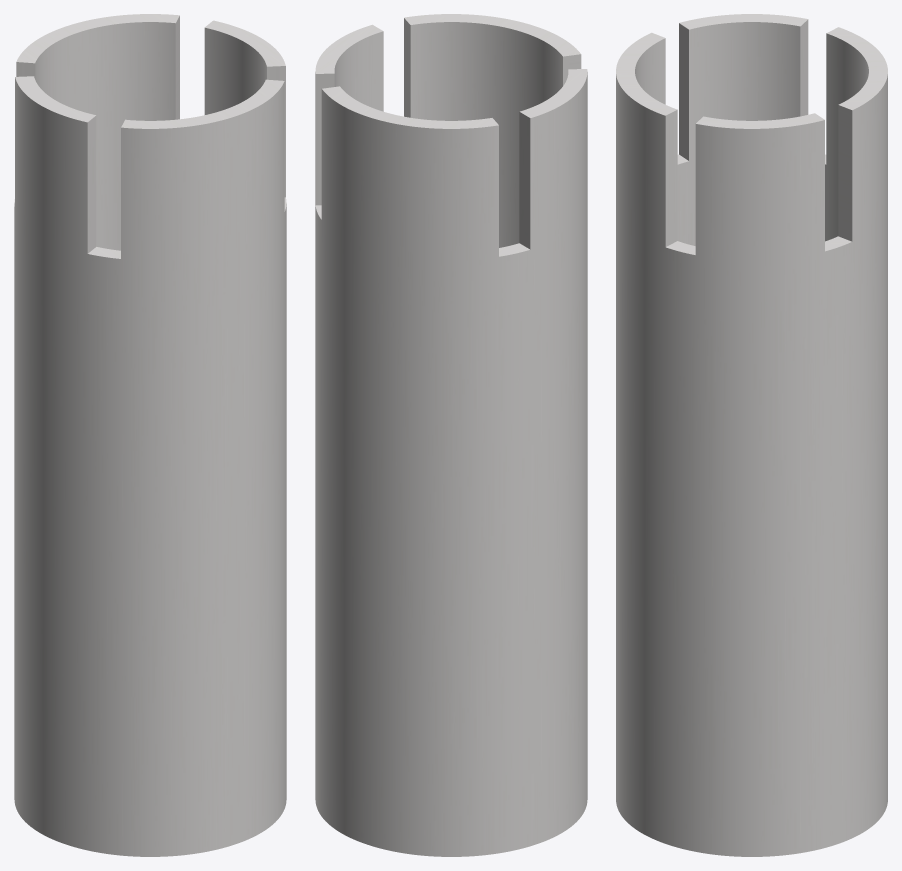
The model's file is rook-white-hd.glb.
3 views of the same model, side by side, from view 1: azimuth 30°, elevation 25°; view 2: azimuth 150°, elevation 25°; view 3: azimuth 270°, elevation 25° (orthographic).
Visible parts, largest first — view 1: 06_vez_bila; view 2: 06_vez_bila; view 3: 06_vez_bila.
Part boxes in pixels (left/top/right/bottom): 06_vez_bila: left=14, top=14, right=286, bottom=856; 06_vez_bila: left=315, top=14, right=587, bottom=856; 06_vez_bila: left=616, top=14, right=887, bottom=856.
Size of the model in its own units: 0.4706 by 1.39 by 0.4706.
Materials: 1 (1 with a texture image).
